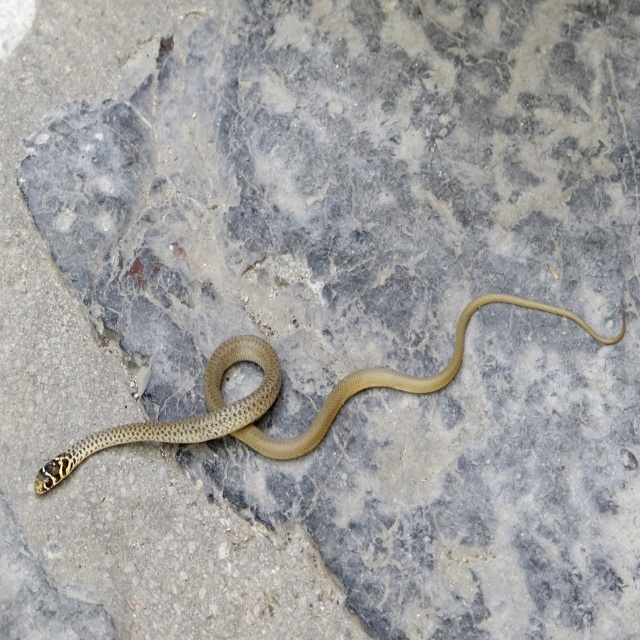Snake: (34, 293, 627, 497)
